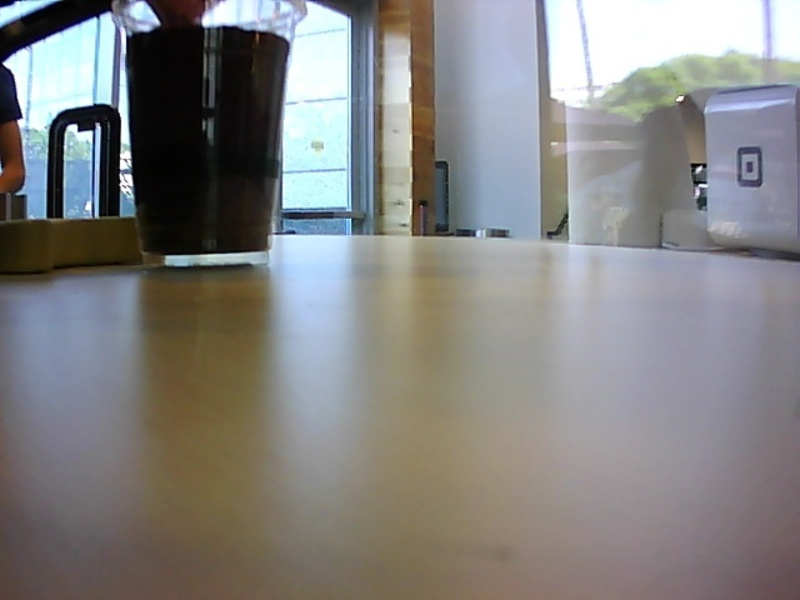cup: (105, 1, 311, 272)
limit: (124, 20, 297, 46)
